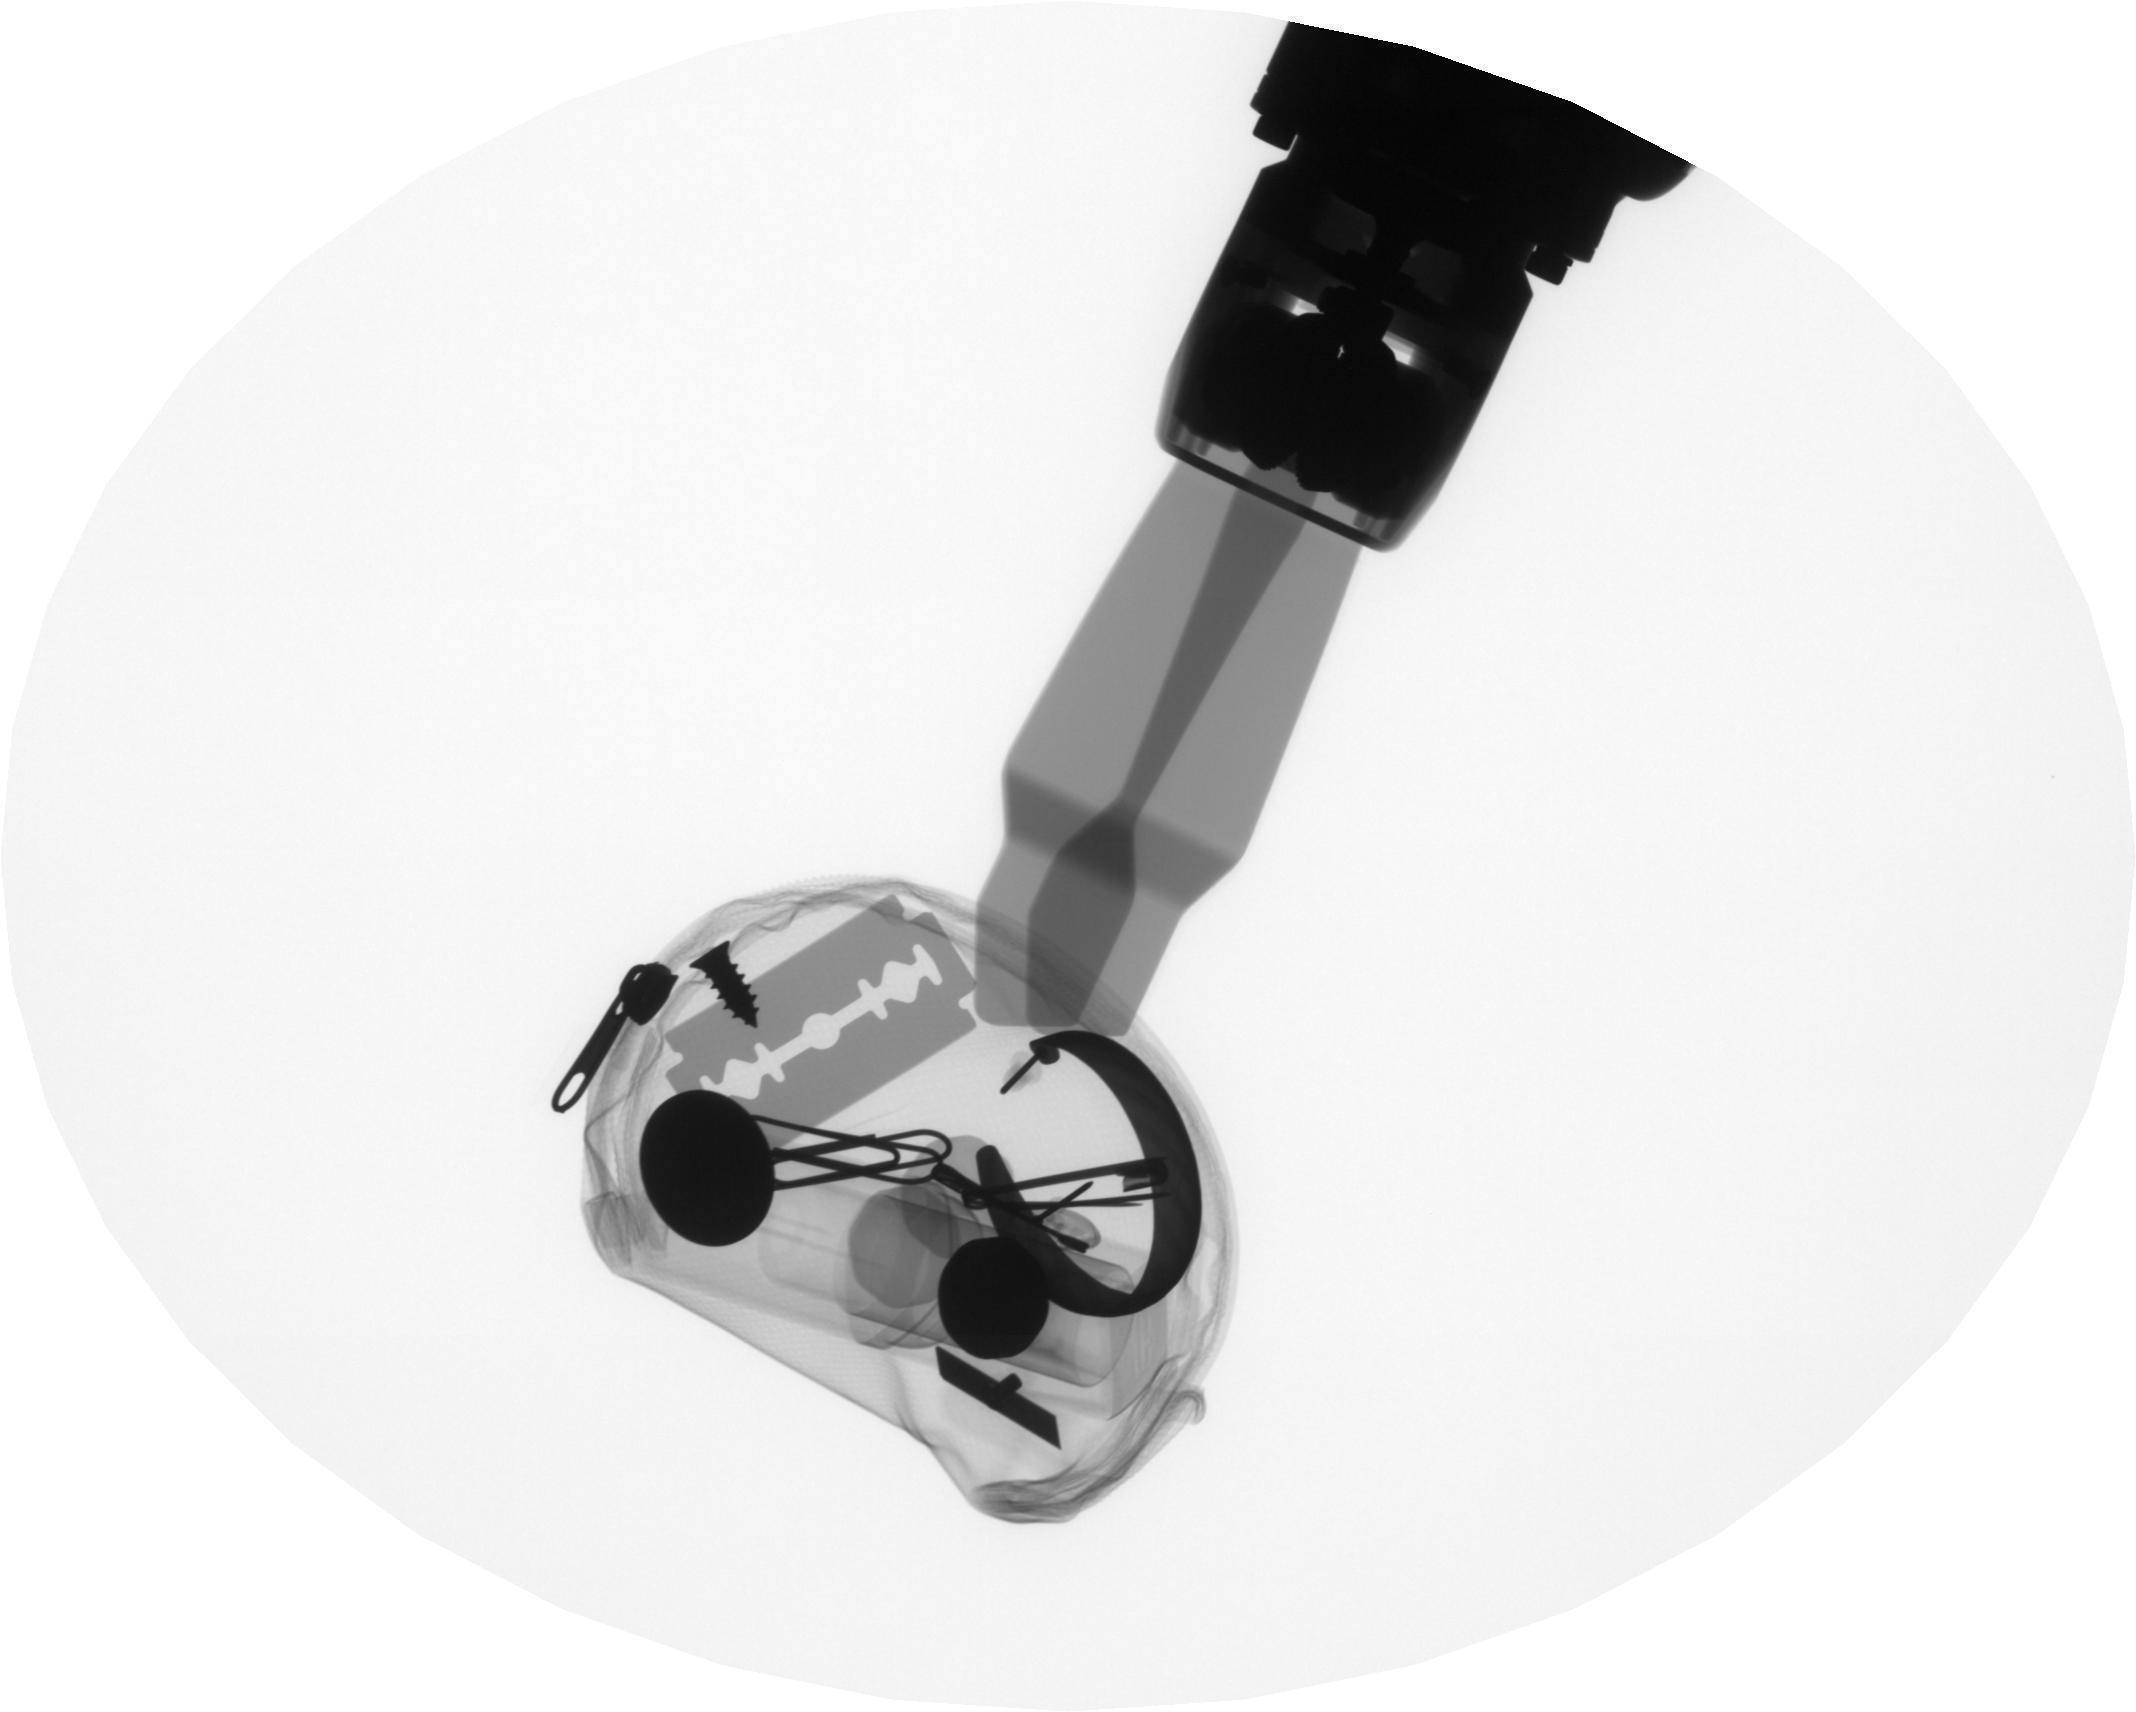RazorBlade: (660, 887, 987, 1179)
